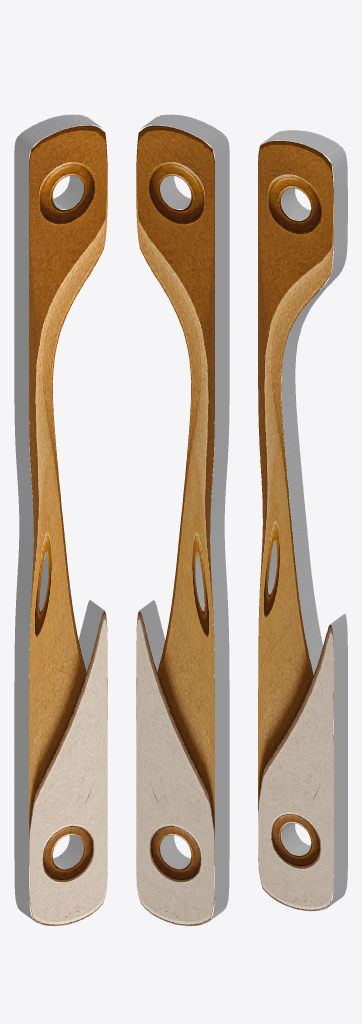
Rendered from UpperLeg.glb.
3 views of the same model, side by side, from view 1: azimuth 30°, elevation 25°; view 2: azimuth 150°, elevation 25°; view 3: azimuth 330°, elevation 25° (orthographic). The views are drawn at different scales.
Visible parts, largest first — view 1: PaperVolume; view 2: PaperVolume; view 3: PaperVolume.
Part boxes in pixels (x1,y1,x2,y2): PaperVolume: (14, 114, 107, 926); PaperVolume: (136, 114, 229, 926); PaperVolume: (258, 130, 347, 911).
Bounding box in the file's own units: 0.25 × 3.05 × 0.08.
Materials: 3 (2 with a texture image).
